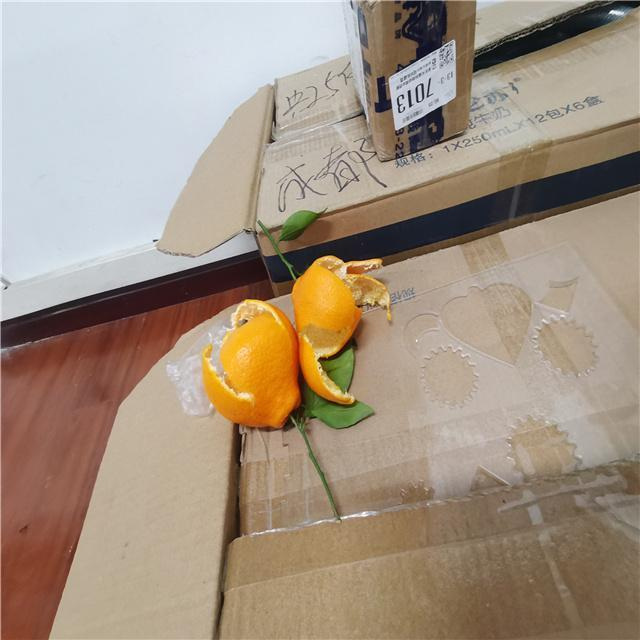orange peel: (293, 243, 397, 410), (198, 279, 304, 432)
